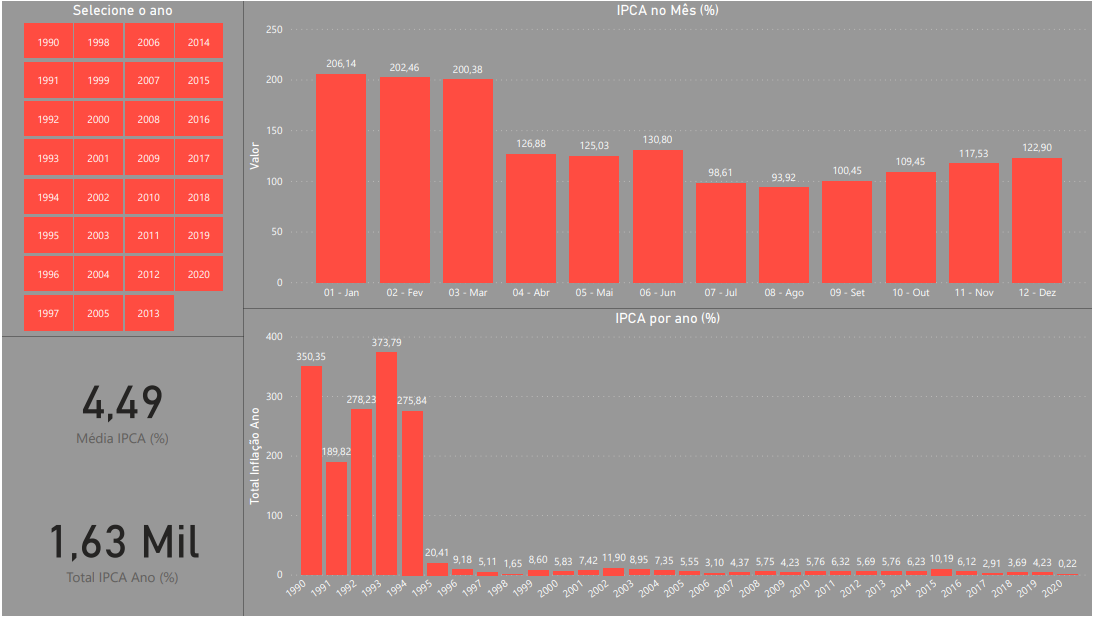

The page's visual inventory and layout, read from the dashboard file:
{"tool":"powerbi","page":{"name":"Página 1","canvas":[1280,720],"ordinal":0},"visuals":[{"type":"slicer","title":"Selecione o ano","fields":{"Values":["IPCA (2).Ano"]},"box":[0,0,283.5,392.6],"z":0},{"type":"lineStackedColumnComboChart","title":"IPCA no Mês (%)","fields":{"Y":["Sum(IPCA.Valor)"],"Category":["IPCA.Mês"]},"box":[283.5,0,995,360],"z":1000},{"type":"lineStackedColumnComboChart","title":"IPCA por ano (%)","fields":{"Category":["IPCA.Ano"],"Y":["IPCA.Total Inflação Ano"]},"box":[283.5,360,995,360],"z":2000},{"type":"card","fields":{"Values":["IPCA.Média IPCA"]},"box":[0,392.6,283.5,160.2],"z":3000},{"type":"card","fields":{"Values":["IPCA.Total Inflação Ano"]},"box":[0,552.8,283.5,167.2],"z":4000}]}

Visuals, with their boxes in screenshot pixels (x1, y1, x2, y2), scaled from the page's 1280x720 canvas onto the 1093x619 screenshot:
"Selecione o ano" slicer: region(0, 0, 242, 338)
"IPCA no Mês (%)" lineStackedColumnComboChart: region(242, 0, 1092, 310)
"IPCA por ano (%)" lineStackedColumnComboChart: region(242, 310, 1092, 618)
card - IPCA.Média IPCA: region(0, 338, 242, 475)
card - IPCA.Total Inflação Ano: region(0, 475, 242, 618)
